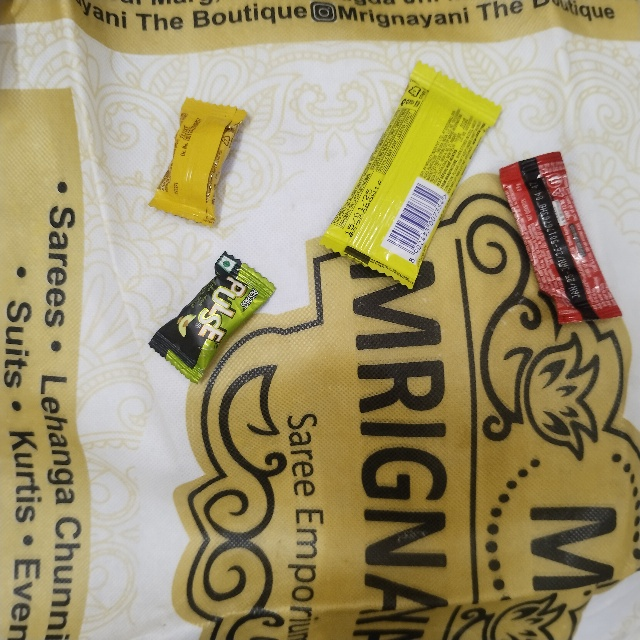Alpenlibe Creamfills: (189, 92, 257, 212)
Nescafe Coffee: (493, 171, 562, 348)
Orbit: (417, 58, 518, 267)
Pulse: (142, 343, 272, 407)
